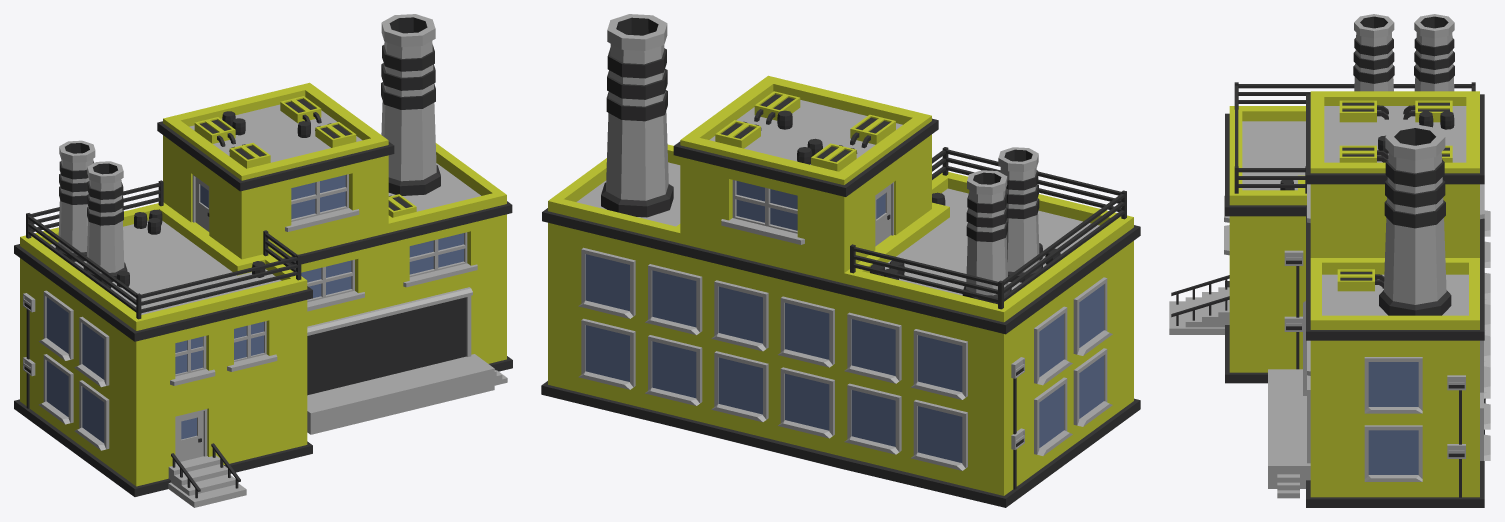
File: Factory1_2.fbx
The picture shows the model from 3 angles, left to right: view 1: azimuth 30°, elevation 25°; view 2: azimuth 150°, elevation 25°; view 3: azimuth 270°, elevation 25°; orthographic projection. The views are drawn at different scales.
Parts seen in each view (by area): view 1: Factory1.001; view 2: Factory1.001; view 3: Factory1.001.
Boxes of the visible parts, box(x1,y1,x2,y2) form: Factory1.001: box(14, 14, 512, 507); Factory1.001: box(541, 14, 1140, 507); Factory1.001: box(1169, 14, 1490, 507).
Size of the model in its own units: 1349 by 968 by 822.
